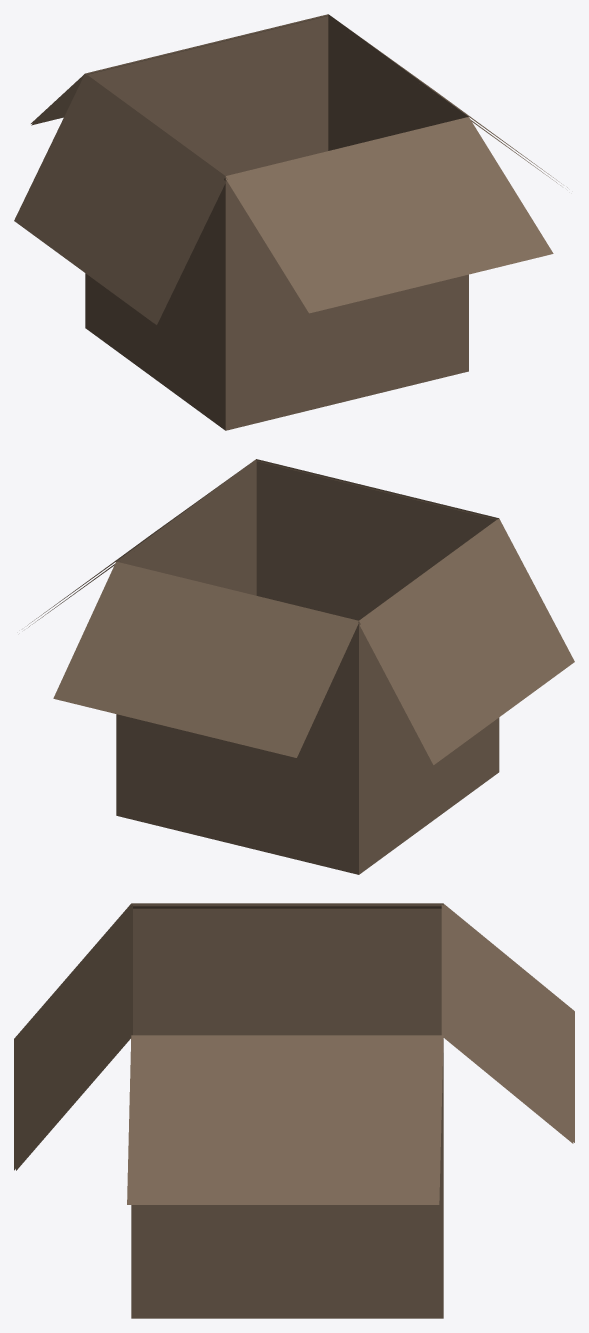
File: Caixa.fbx
The picture shows the model from 3 angles, top to bottom: view 1: azimuth 30°, elevation 25°; view 2: azimuth 150°, elevation 25°; view 3: azimuth 270°, elevation 25°; orthographic projection. The views are drawn at different scales.
Parts seen in each view (by area): view 1: Cube; view 2: Cube; view 3: Cube.
Part boxes in pixels (x1,y1,x2,y2): Cube: [14, 14, 567, 430]; Cube: [27, 459, 574, 874]; Cube: [14, 903, 574, 1318].
Bounding box in the file's own units: 6.59 × 3.81 × 6.83.
